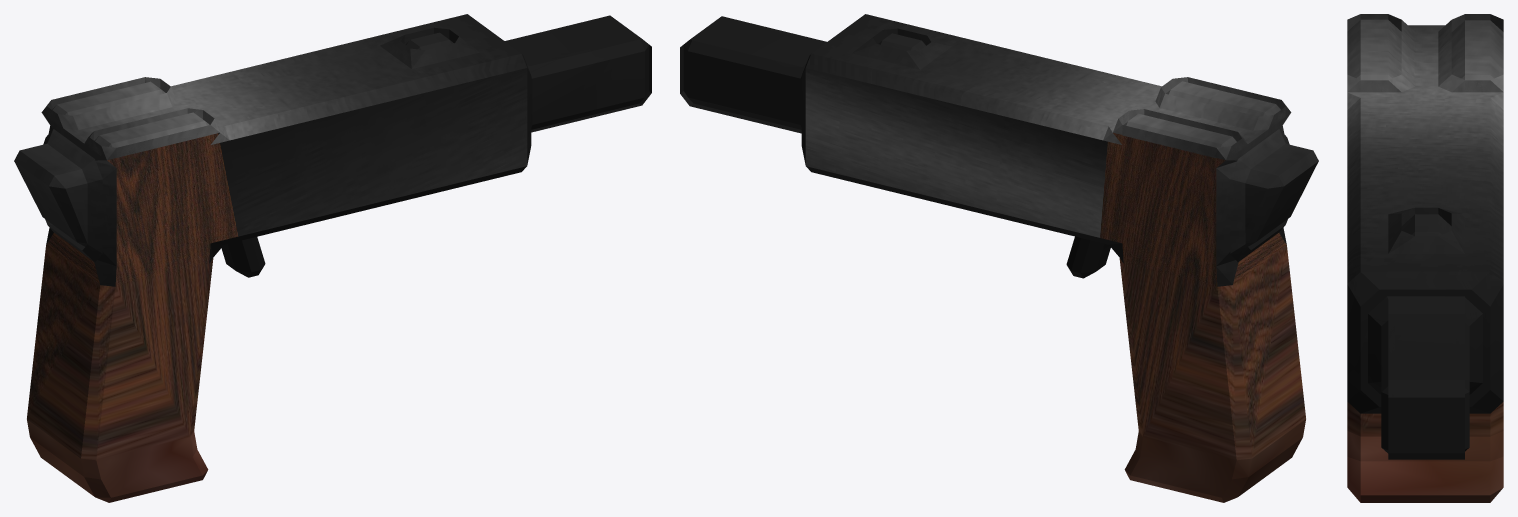
File: Pistolie.obj
3 views of the same model, side by side, from view 1: azimuth 30°, elevation 25°; view 2: azimuth 150°, elevation 25°; view 3: azimuth 270°, elevation 25° (orthographic). The views are drawn at different scales.
Visible parts, largest first — view 1: Cube; view 2: Cube; view 3: Cube.
Part boxes in pixels (x1,y1,x2,y2): Cube: (14, 14, 651, 502); Cube: (680, 14, 1318, 502); Cube: (1347, 14, 1503, 502).
Bounding box in the file's own units: 10.68 × 6.06 × 2.
1 material, 1 textured.
